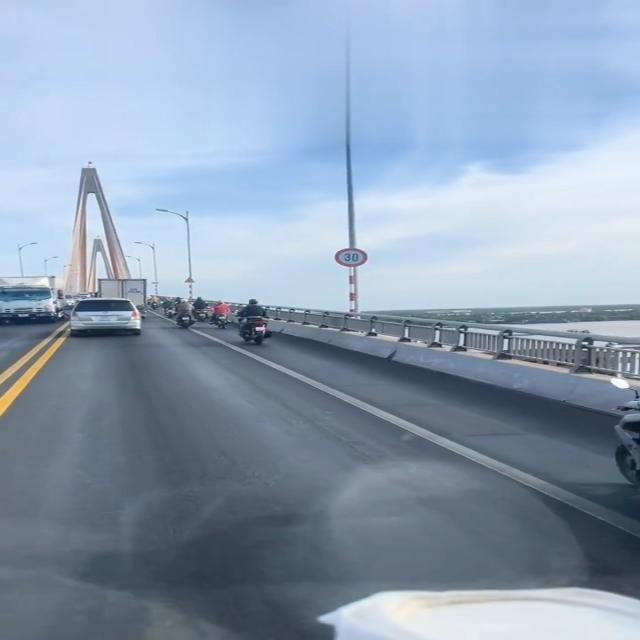127-toc-do-toi-da-30: (334, 248, 368, 268)
